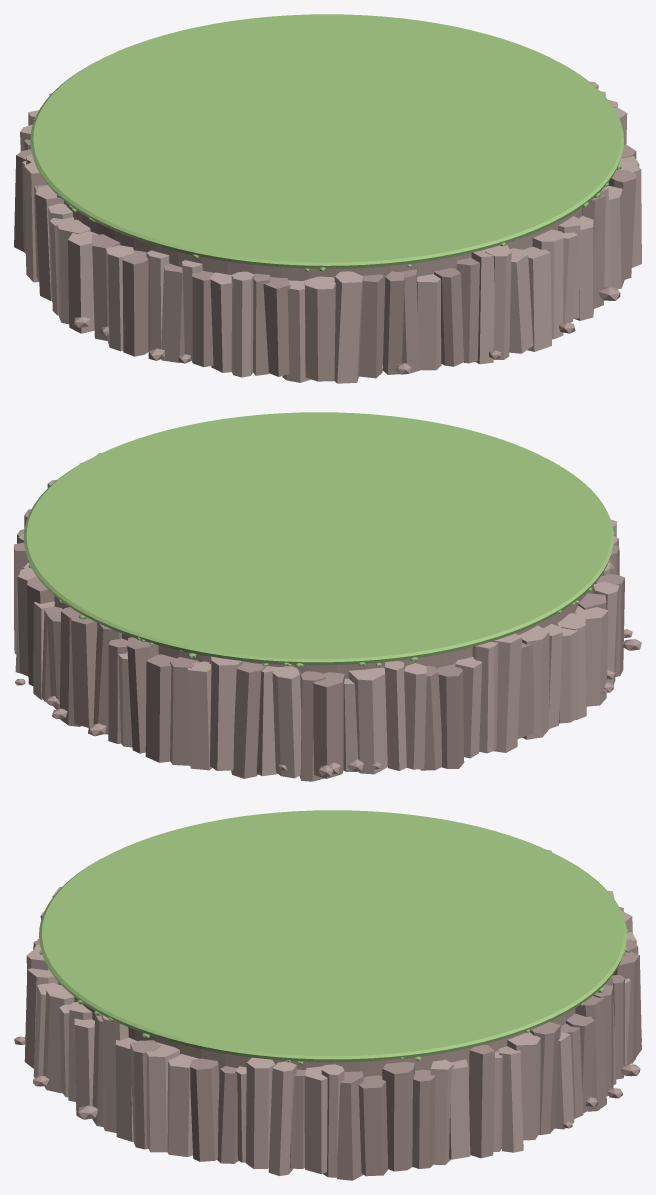
Rendered from HOB_Plateau_Almond.fbx.
The picture shows the model from 3 angles, top to bottom: view 1: azimuth 30°, elevation 25°; view 2: azimuth 150°, elevation 25°; view 3: azimuth 270°, elevation 25°; orthographic projection.
Visible parts, largest first — view 1: HOB_Plateau_Almond; view 2: HOB_Plateau_Almond; view 3: HOB_Plateau_Almond.
Part boxes in pixels (x1,y1,x2,y2): HOB_Plateau_Almond: [14, 14, 641, 383]; HOB_Plateau_Almond: [14, 412, 641, 781]; HOB_Plateau_Almond: [14, 810, 641, 1180].
Bounding box in the file's own units: 6483 × 1346 × 6504.
